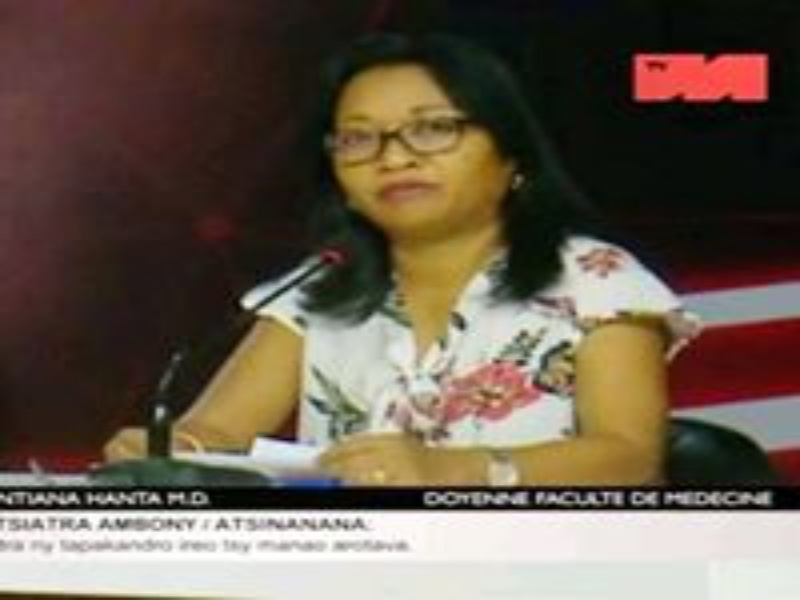TsisyArotava: (305, 40, 512, 265)
